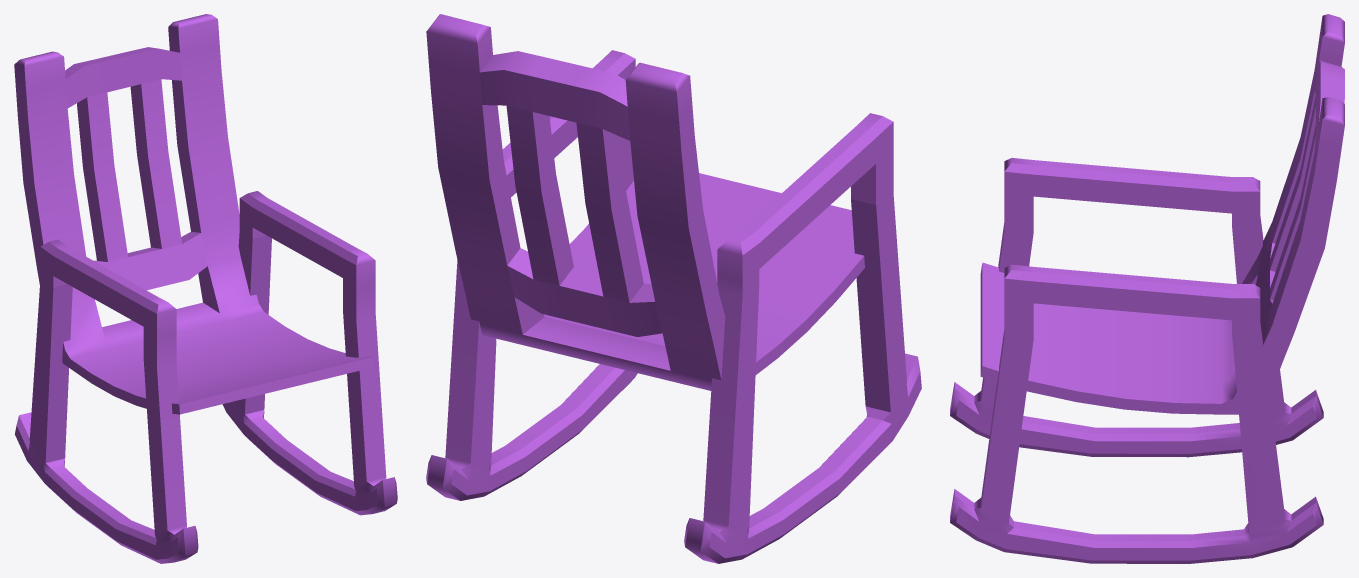
File: SillaMecedora.fbx
3 renders of one model, left to right at view 1: azimuth 30°, elevation 25°; view 2: azimuth 150°, elevation 25°; view 3: azimuth 270°, elevation 25°, orthographic. The views are drawn at different scales.
Visible parts, largest first — view 1: Mesedora; view 2: Mesedora; view 3: Mesedora.
Part boxes in pixels (box(x1,y1,x2,y2)): Mesedora: box(14, 14, 397, 563); Mesedora: box(426, 14, 921, 563); Mesedora: box(950, 14, 1344, 563).
Bounding box in the file's own units: 0.7822 × 1.38 × 1.11.
